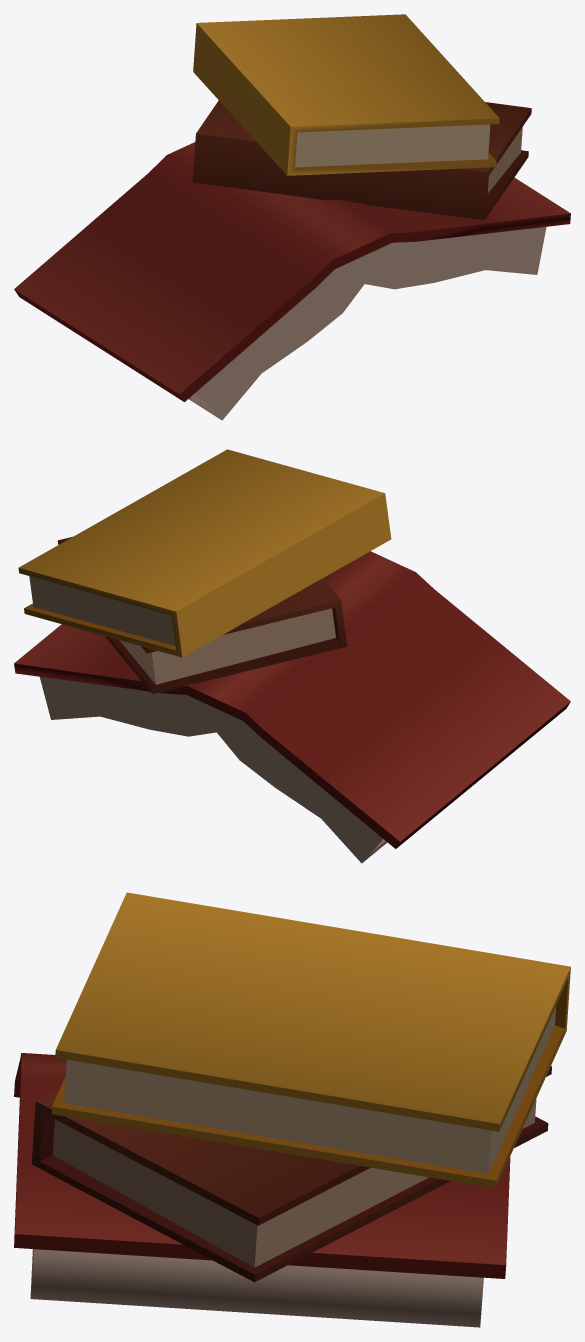
File: hat_books.glb
The picture shows the model from 3 angles, top to bottom: view 1: azimuth 30°, elevation 25°; view 2: azimuth 150°, elevation 25°; view 3: azimuth 270°, elevation 25°; orthographic projection. The views are drawn at different scales.
Parts seen in each view (by area): view 1: hat_books; view 2: hat_books; view 3: hat_books.
Boxes of the visible parts, box(x1,y1,x2,y2) form: hat_books: box(14, 14, 570, 420); hat_books: box(14, 449, 570, 863); hat_books: box(14, 892, 570, 1327).
Size of the model in its own units: 0.4066 by 0.2338 by 0.3096.
